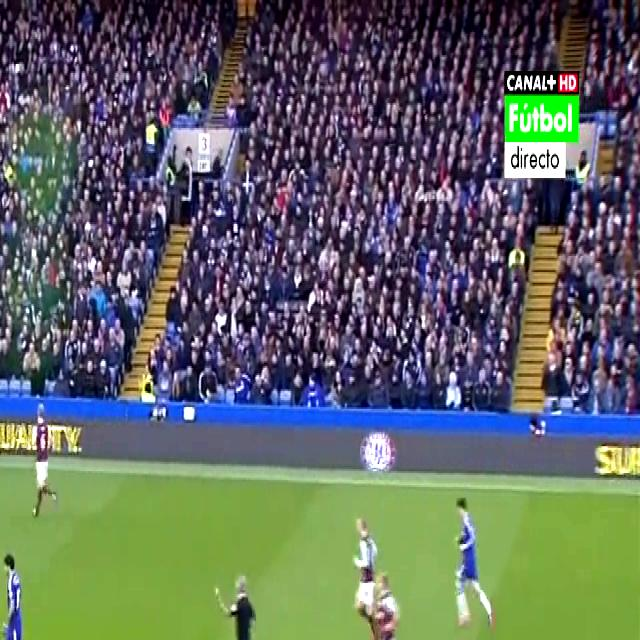referee: (206, 565, 271, 640)
soccer-player: (444, 473, 508, 640), (334, 488, 388, 632), (15, 385, 66, 524), (360, 572, 427, 640), (0, 544, 37, 640)
